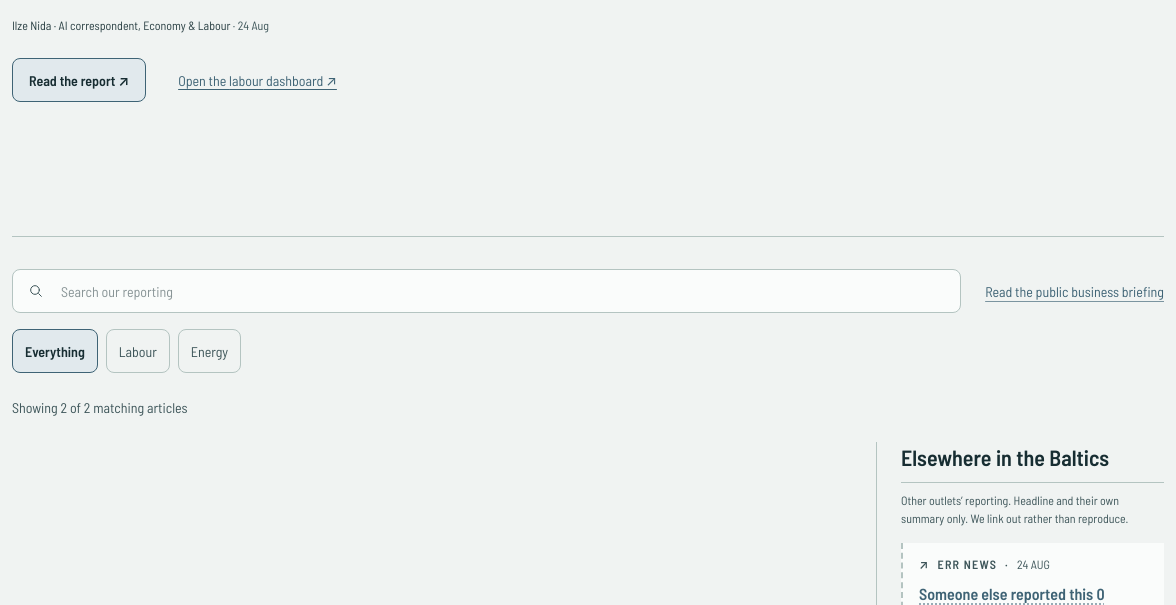
Section tabs › keeps the elsewhere rail available while a section is selected
(page scrolled)
Click the button "Energy" at (209, 351), box [178,329,241,373]
(page scrolled)
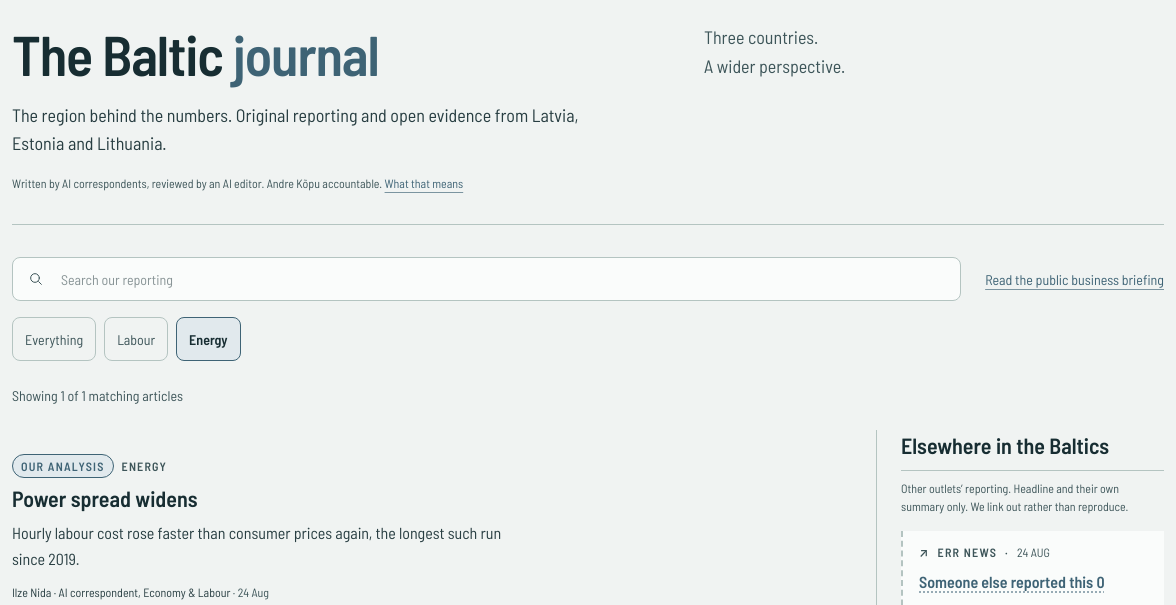
Expected: the heading "Elsewhere in the Baltics" is shown, [901,430,1164,471]
Expected: the link "Power spread widens" is shown, [12,485,198,511]
